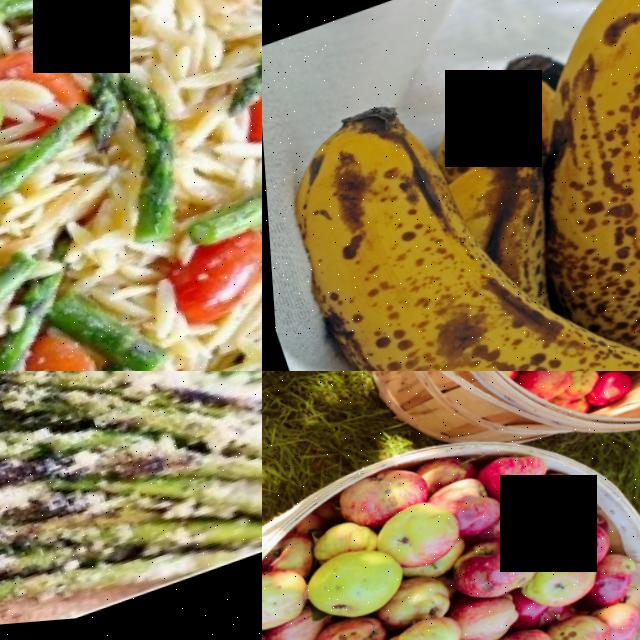apple: (286, 536, 408, 638), (314, 458, 446, 543), (438, 529, 556, 615), (364, 497, 468, 584), (419, 467, 507, 555), (502, 474, 597, 542), (371, 567, 458, 639), (469, 446, 552, 516), (531, 517, 611, 586), (518, 552, 593, 625), (298, 516, 378, 579), (438, 584, 521, 640), (262, 558, 308, 640), (504, 371, 578, 420), (575, 377, 634, 423), (362, 614, 461, 640), (584, 601, 640, 640), (536, 613, 613, 640), (307, 616, 383, 640), (590, 371, 640, 392), (504, 371, 578, 385), (553, 371, 611, 385)
asparagus: (85, 74, 191, 258), (0, 119, 102, 196), (29, 0, 118, 83), (197, 19, 262, 131), (200, 170, 262, 259)
banana: (262, 0, 640, 371)
